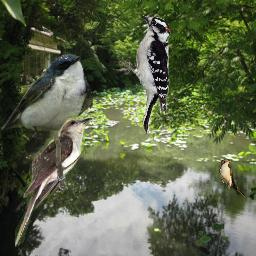Cuckoo: (15, 117, 92, 247), (219, 159, 246, 197)
Swallow: (1, 54, 94, 147)
Woodpecker: (115, 13, 172, 134)
